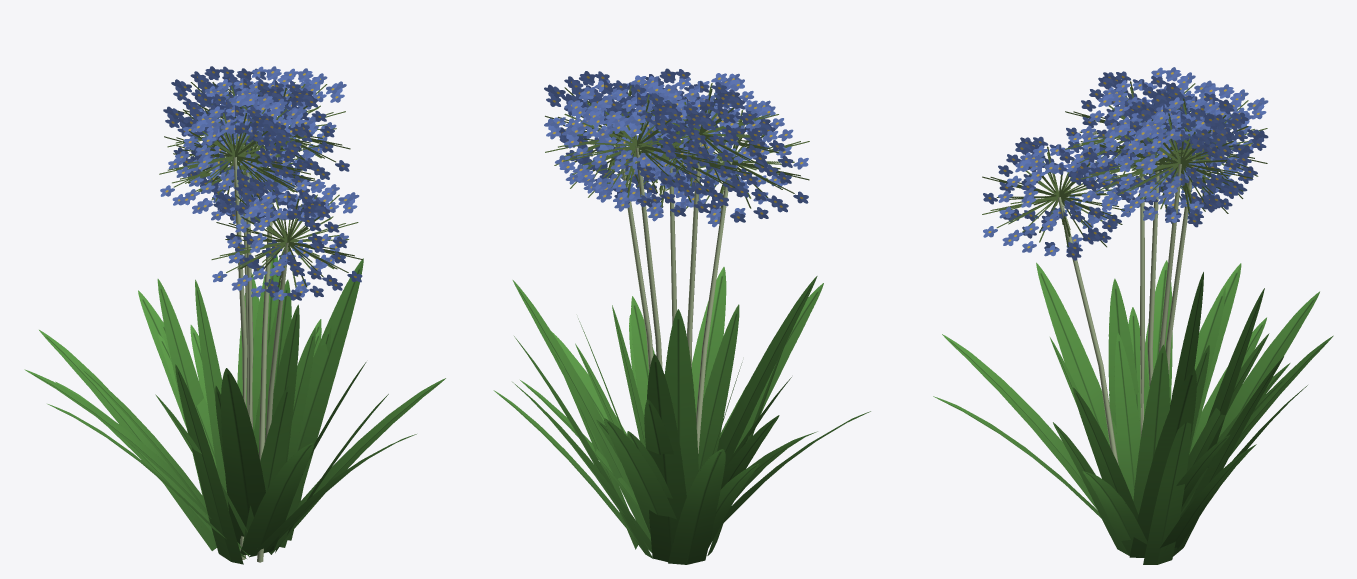
The model's file is agapanthus-africanus.glb.
3 views of the same model, side by side, from view 1: azimuth 30°, elevation 25°; view 2: azimuth 150°, elevation 25°; view 3: azimuth 270°, elevation 25° (orthographic). The views are drawn at different scales.
Parts seen in each view (by area): view 1: folhas, flores, haste; view 2: folhas, flores, haste; view 3: folhas, flores, haste.
Boxes of the visible parts, x1,y1,x2,y2 form: folhas: (24, 255, 445, 564); flores: (159, 66, 363, 300); haste: (233, 145, 288, 562); folhas: (493, 267, 870, 564); flores: (544, 68, 809, 227); haste: (618, 135, 732, 453); folhas: (933, 260, 1333, 564); flores: (982, 67, 1268, 260); haste: (1057, 142, 1196, 465).
Size of the model in its own units: 0.5 by 0.6 by 0.478.
Materials: 3 (2 with a texture image).
